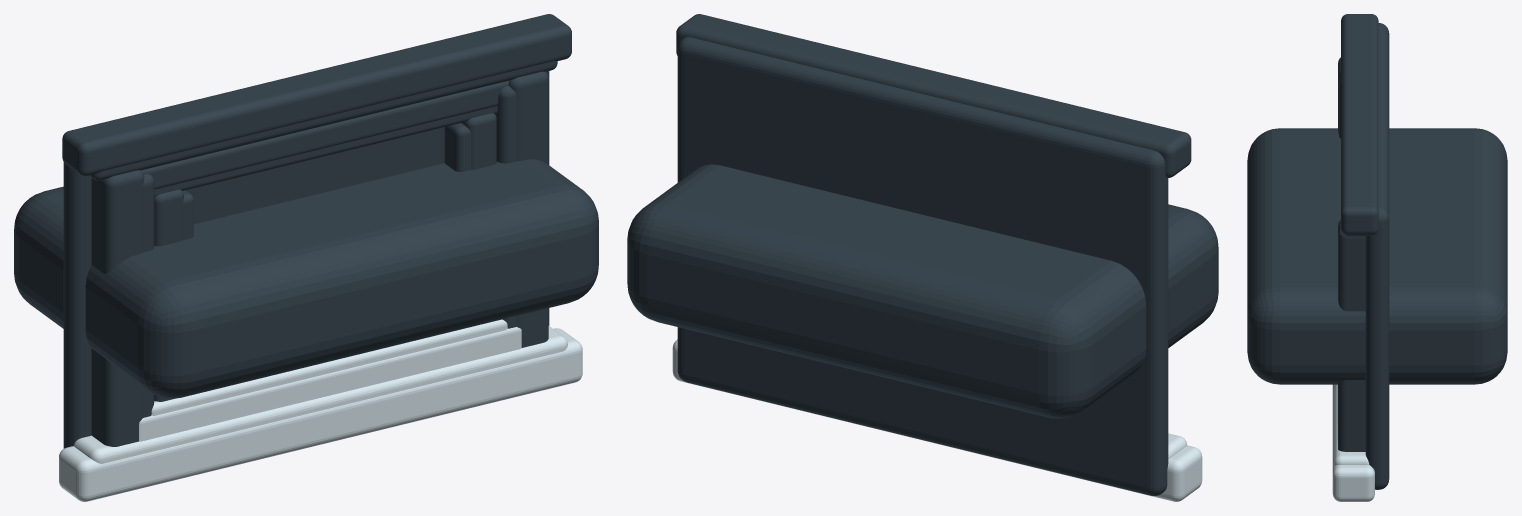
Rendered from body_30.glb.
The picture shows the model from 3 angles, left to right: view 1: azimuth 30°, elevation 25°; view 2: azimuth 150°, elevation 25°; view 3: azimuth 270°, elevation 25°; orthographic projection. The views are drawn at different scales.
Visible parts, largest first — view 1: asset_mesh__body_1376__reference_body, asset_mesh__body_1393__lower_flange, asset_mesh__body_1393__upper_flange, asset_mesh__body_1393__stamped_sheet, asset_mesh__body_1389__upper_flange, asset_mesh__body_1393__left_reinforcement, asset_mesh__body_1389__lower_flange, asset_mesh__body_1392__upper_flange, asset_mesh__body_1388__upper_flange, asset_mesh__body_1392__lower_flange, asset_mesh__body_1393__right_reinforcement, asset_mesh__body_1388__lower_flange (+5 smaller); view 2: asset_mesh__body_1393__stamped_sheet, asset_mesh__body_1376__reference_body, asset_mesh__body_1393__lower_flange, asset_mesh__body_1393__upper_flange; view 3: asset_mesh__body_1376__reference_body, asset_mesh__body_1393__stamped_sheet, asset_mesh__body_1393__lower_flange, asset_mesh__body_1393__right_reinforcement, asset_mesh__body_1393__upper_flange, asset_mesh__body_1392__upper_flange.
Part boxes in pixels (x1,y1,x2,y2): asset_mesh__body_1376__reference_body: (14,159,598,398); asset_mesh__body_1393__lower_flange: (62,14,571,176); asset_mesh__body_1393__upper_flange: (59,328,582,501); asset_mesh__body_1393__stamped_sheet: (63,71,549,448); asset_mesh__body_1389__upper_flange: (139,327,521,441); asset_mesh__body_1393__left_reinforcement: (91,170,144,446); asset_mesh__body_1389__lower_flange: (141,81,508,189); asset_mesh__body_1392__upper_flange: (74,326,567,463); asset_mesh__body_1388__upper_flange: (151,319,507,415); asset_mesh__body_1392__lower_flange: (89,61,557,180); asset_mesh__body_1393__right_reinforcement: (508,71,548,347); asset_mesh__body_1388__lower_flange: (154,106,497,196); asset_mesh__body_1393__stamped_sheet: (677,37,1168,495); asset_mesh__body_1376__reference_body: (627,164,1218,418); asset_mesh__body_1393__lower_flange: (676,14,1191,177); asset_mesh__body_1393__upper_flange: (672,339,1202,501); asset_mesh__body_1376__reference_body: (1247,128,1507,384); asset_mesh__body_1393__stamped_sheet: (1365,23,1389,489); asset_mesh__body_1393__lower_flange: (1341,14,1378,235); asset_mesh__body_1393__right_reinforcement: (1338,220,1365,451); asset_mesh__body_1393__upper_flange: (1332,384,1374,501); asset_mesh__body_1392__upper_flange: (1334,384,1369,465).
Size of the model in its own units: 1.63 by 1.09 by 0.882.
